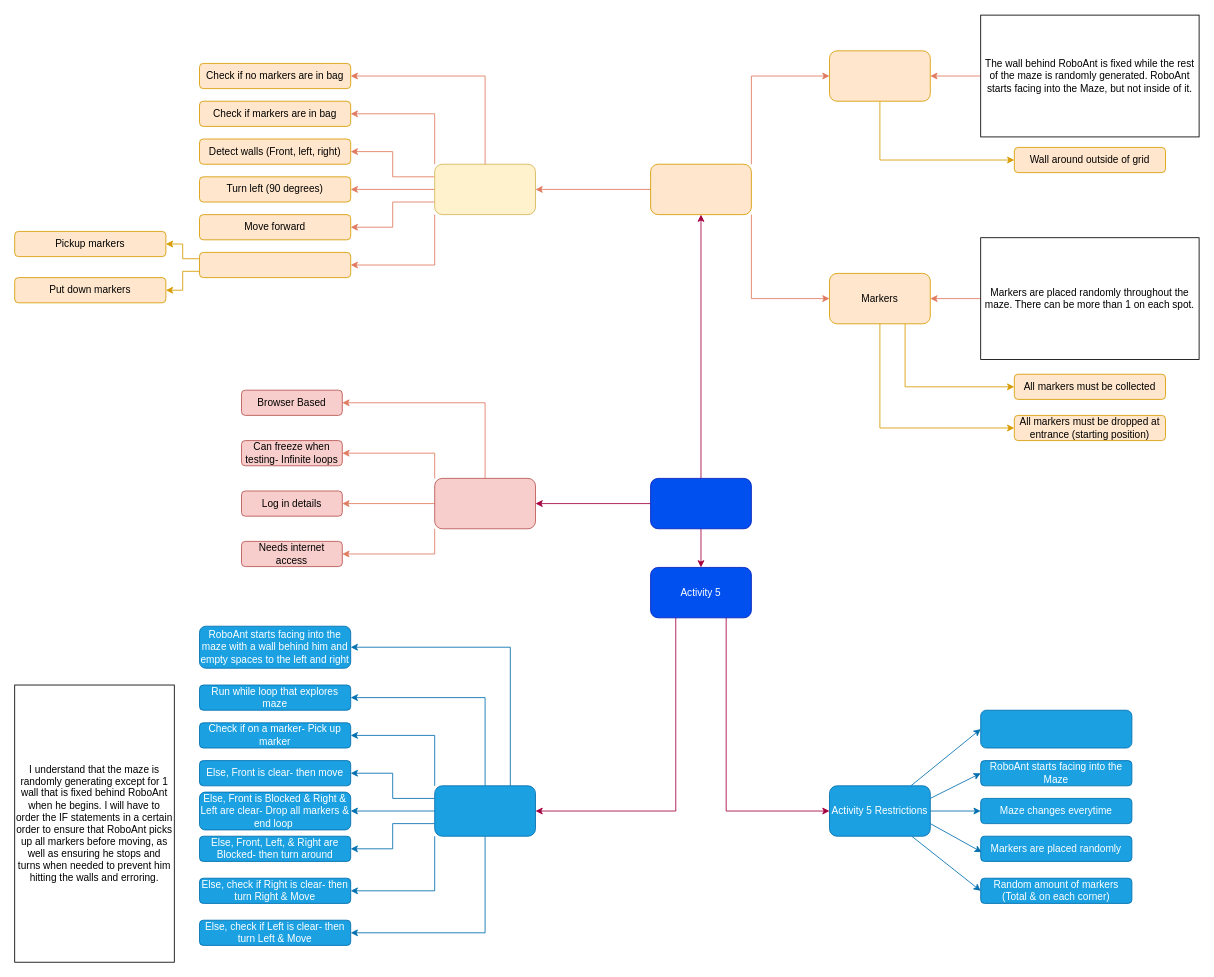
The diagram is 1214 pixels wide and 977 high, and some of its shapes have lost their labels. The shapes that lost their labels are listed below. From the top down, each one's centre as x and y in pixels, then its label:
[879,75]: Walls (Impenetrable barriers)
[485,189]: Abilities
[700,189]: Restrictions
[275,265]: Detect markers
[485,503]: IPT Online
[700,503]: RoboAnt
[1056,728]: RoboAnt must return to entrance (starting position) to drop all markers
[485,810]: Problem breakdown to code
